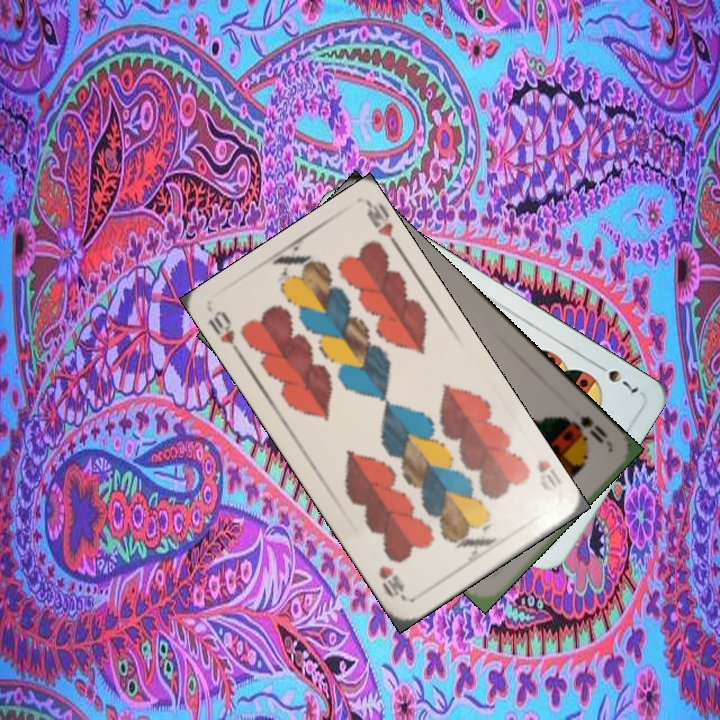H10: (204, 306, 245, 359), (533, 455, 560, 496)
S7: (590, 358, 642, 396)
SO: (560, 411, 611, 447)
